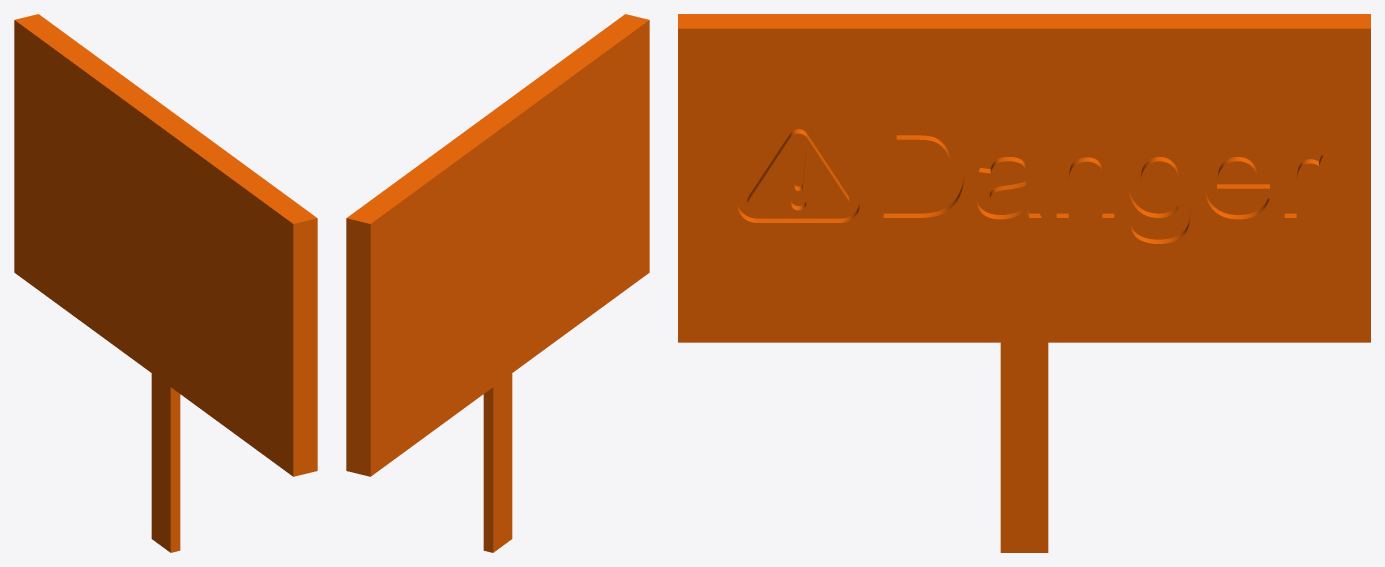
File: Sign 3.fbx
3 views of the same model, side by side, from view 1: azimuth 30°, elevation 25°; view 2: azimuth 150°, elevation 25°; view 3: azimuth 270°, elevation 25° (orthographic). The views are drawn at different scales.
Visible parts, largest first — view 1: Signs; view 2: Signs; view 3: Signs.
Part boxes in pixels (x1,y1,x2,y2): Signs: (14,14,317,552); Signs: (346,14,649,552); Signs: (678,14,1370,552).
Bounding box in the file's own units: 54.12 × 1082 × 911.
